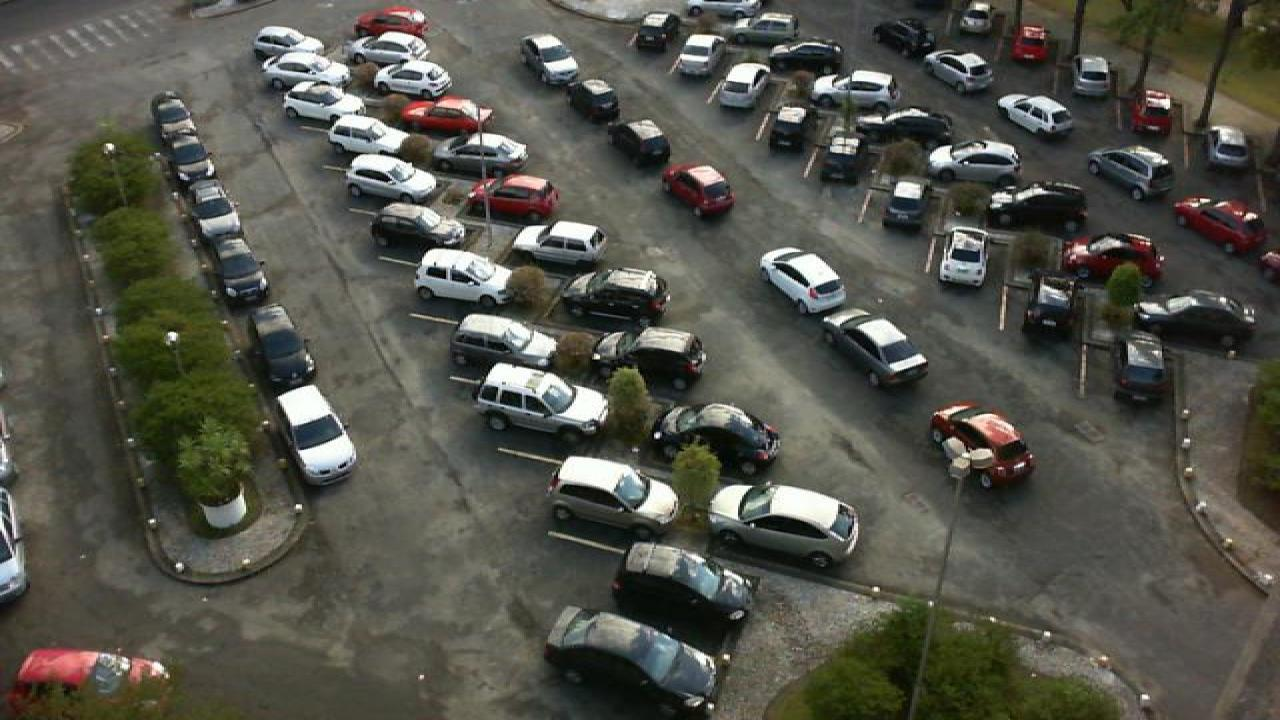Car: (544, 604, 720, 714), (704, 480, 860, 568), (610, 542, 758, 630), (4, 646, 176, 720), (544, 454, 680, 538), (470, 361, 610, 441), (648, 402, 784, 477), (928, 400, 1038, 488), (820, 310, 932, 390), (272, 385, 358, 487), (590, 324, 708, 392), (1132, 290, 1260, 346), (448, 312, 560, 370), (756, 245, 848, 315), (564, 267, 670, 325), (1060, 231, 1166, 288), (982, 182, 1088, 238), (410, 248, 512, 306), (1174, 195, 1272, 252), (252, 304, 318, 387), (1110, 322, 1174, 404), (1084, 146, 1174, 202), (508, 219, 608, 269), (340, 153, 440, 203), (368, 202, 468, 251), (430, 132, 530, 178), (924, 138, 1024, 184), (466, 174, 560, 221), (324, 112, 410, 160), (396, 96, 494, 137), (662, 162, 736, 216), (218, 236, 272, 307), (278, 80, 364, 124), (862, 106, 956, 145), (994, 94, 1076, 138), (258, 53, 350, 92), (1032, 274, 1086, 340), (936, 224, 988, 289), (370, 58, 454, 98), (192, 180, 244, 242), (348, 30, 432, 68), (924, 50, 996, 94), (518, 33, 582, 82), (764, 38, 848, 73), (760, 102, 814, 156), (610, 118, 672, 164), (714, 63, 772, 110), (870, 19, 938, 59), (350, 7, 432, 40), (250, 26, 326, 60), (880, 180, 928, 233), (564, 78, 620, 122), (820, 136, 866, 189), (674, 33, 728, 78), (166, 136, 214, 185), (148, 94, 196, 140), (734, 11, 802, 43), (1130, 88, 1174, 136), (800, 68, 848, 112), (632, 12, 680, 56), (1208, 125, 1252, 170), (1070, 54, 1112, 99), (1008, 24, 1052, 65), (682, 0, 764, 21), (958, 0, 996, 36)
